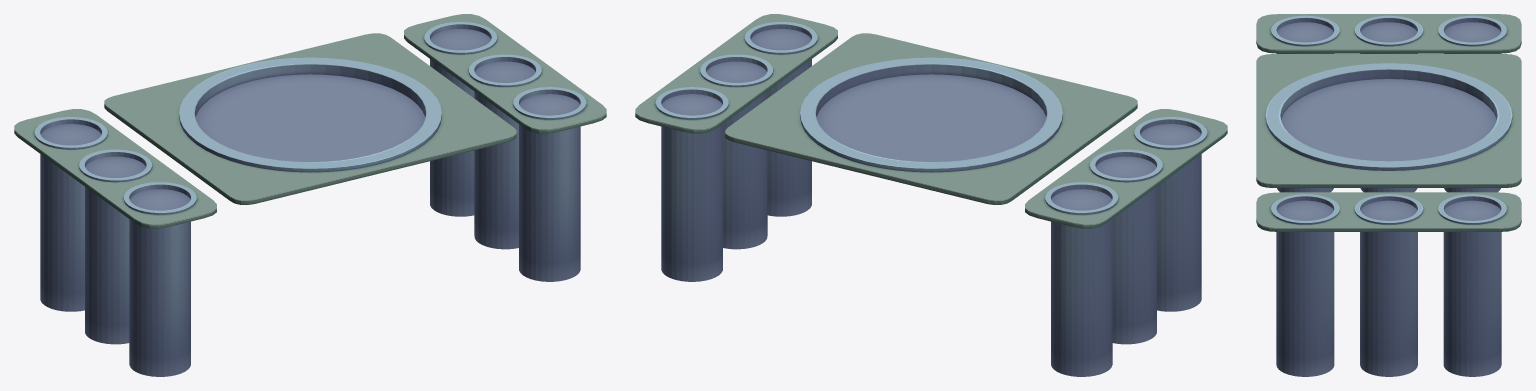
File: 冰淇淋-海滩大场景-冰淇淋摆放台1.FBX
The picture shows the model from 3 angles, left to right: view 1: azimuth 30°, elevation 25°; view 2: azimuth 150°, elevation 25°; view 3: azimuth 270°, elevation 25°; orthographic projection. The views are drawn at different scales.
Visible parts, largest first — view 1: 冰淇淋-海滩大场景-冰淇淋摆放台1; view 2: 冰淇淋-海滩大场景-冰淇淋摆放台1; view 3: 冰淇淋-海滩大场景-冰淇淋摆放台1.
Part boxes in pixels (<box>): 冰淇淋-海滩大场景-冰淇淋摆放台1: <box>14,14,606,376</box>; 冰淇淋-海滩大场景-冰淇淋摆放台1: <box>635,14,1227,376</box>; 冰淇淋-海滩大场景-冰淇淋摆放台1: <box>1256,14,1521,376</box>.
Bounding box in the file's own units: 48.6 × 16.95 × 25.44.
Materials: 1 (1 with a texture image).
